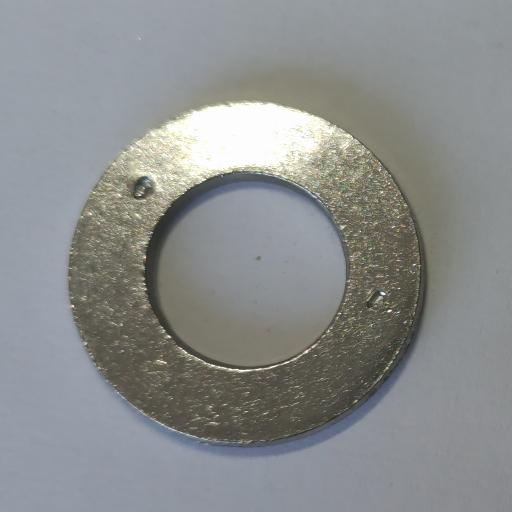circular_cavity: (131, 175, 154, 200)
